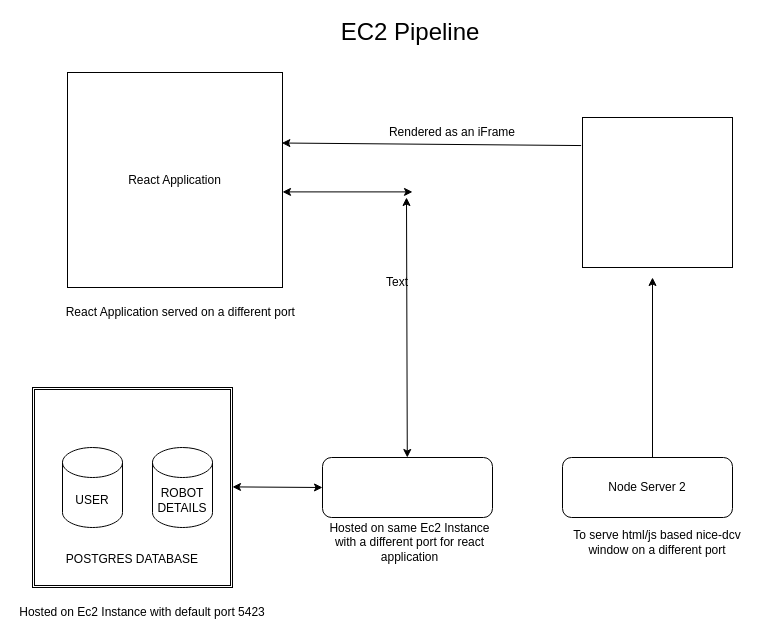
Image size: 769x644. Some labels were removed from this diagram. Each missing label, with the centre of its shape:
Nice DCV HTML/JS based App: the point at 657,192
Node Server 1: the point at 407,487
